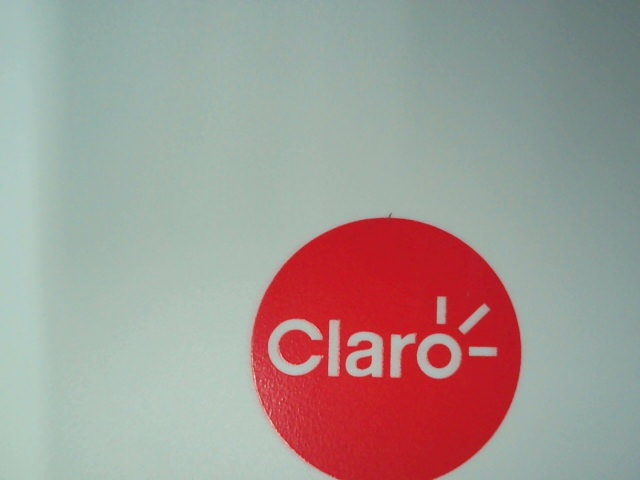BC_ClaorRed: (233, 205, 541, 475)
